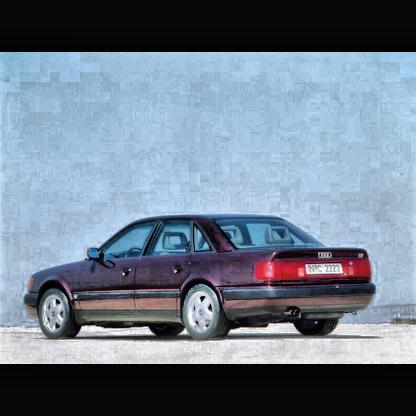Audi 100 Sedan 1994: (23, 214, 381, 343)
